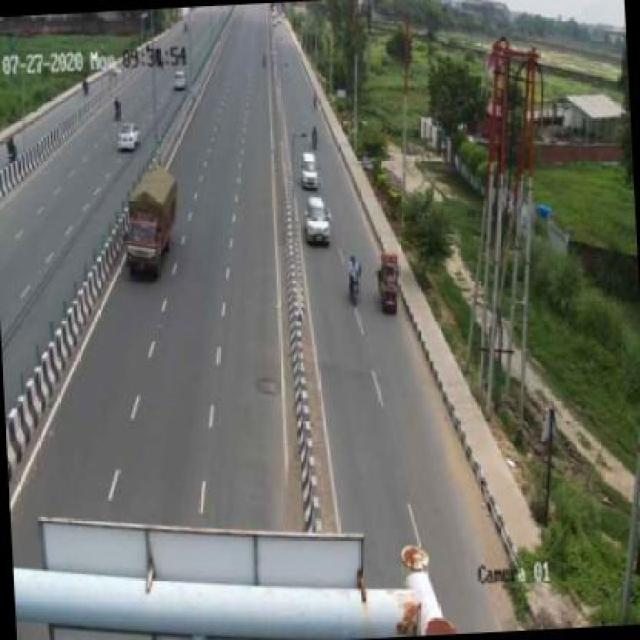car: (304, 195, 330, 248), (114, 119, 143, 152), (298, 151, 320, 191)
